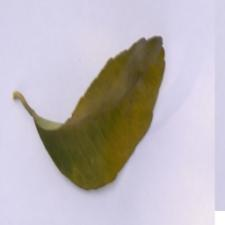Greening: (39, 48, 175, 181)
